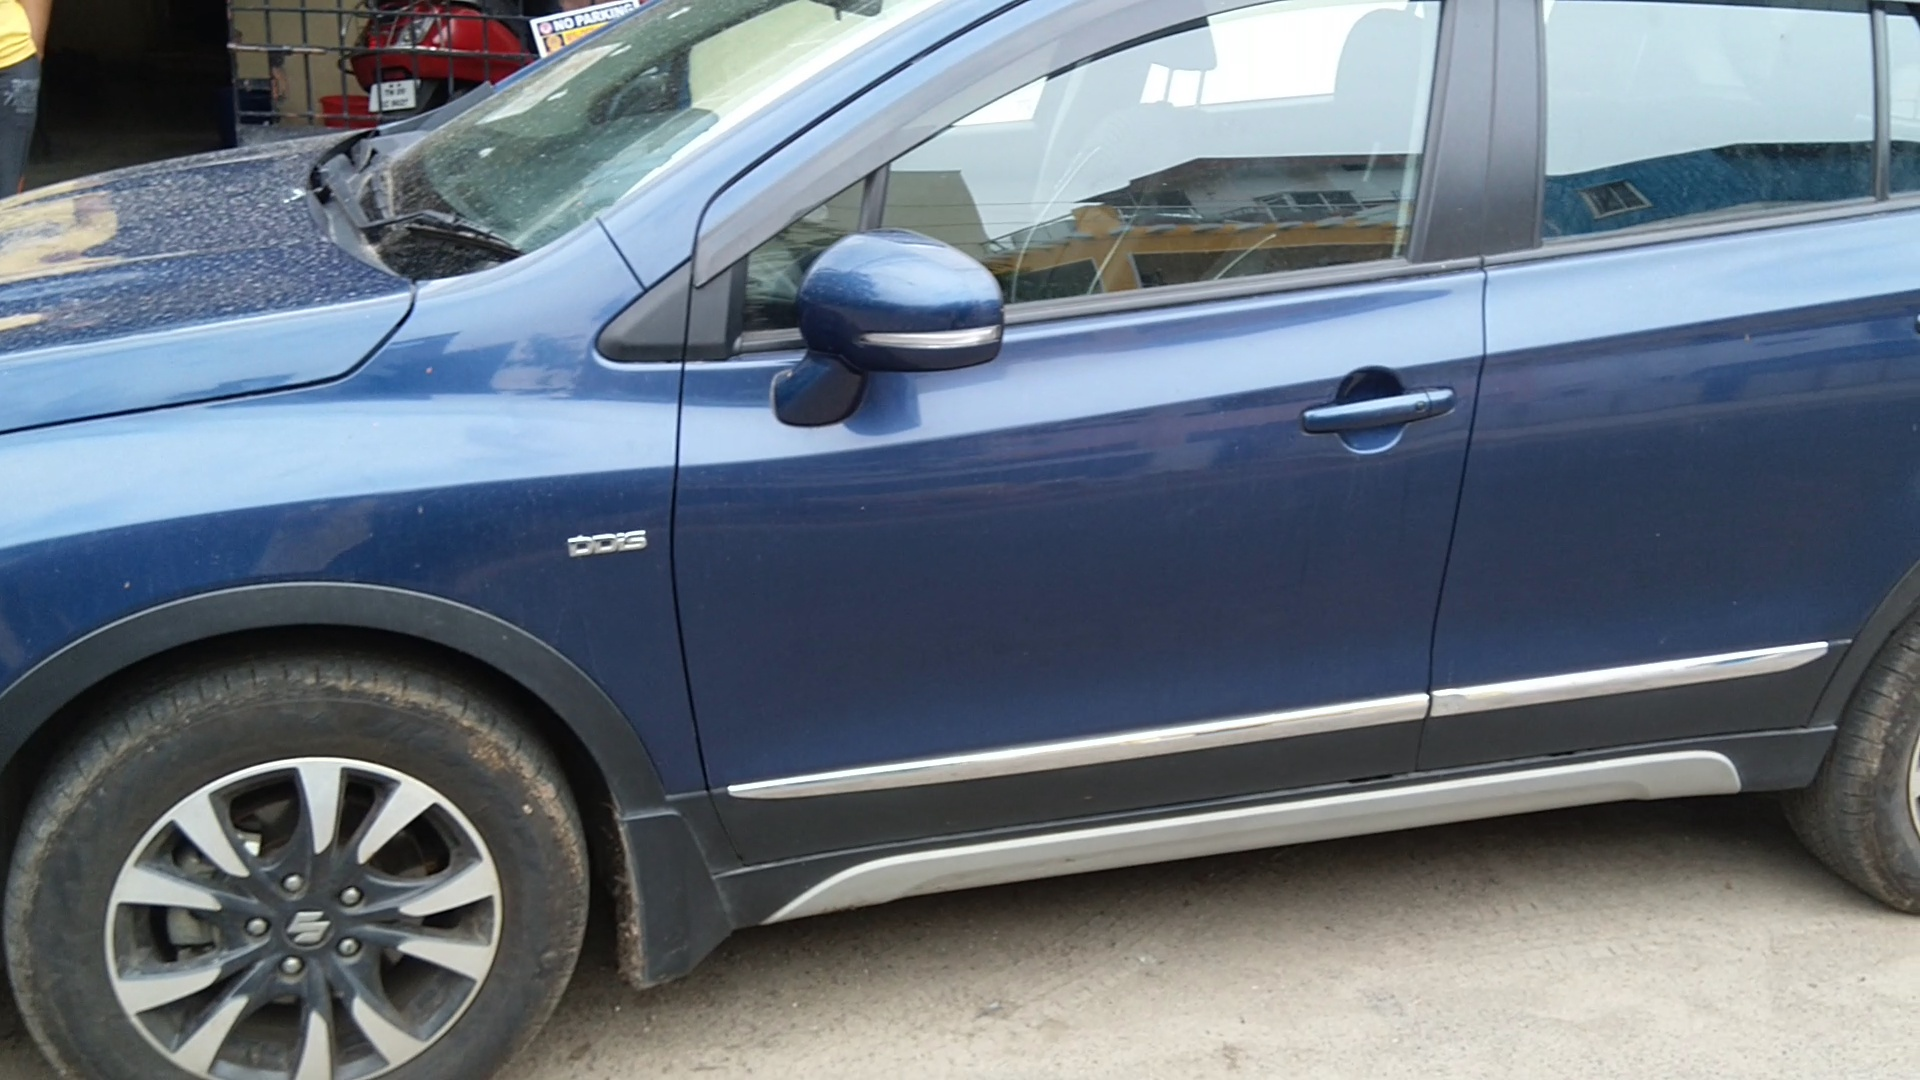alloy_wheel: (11, 675, 558, 1080)
ovr_mirror: (764, 216, 1017, 458)
